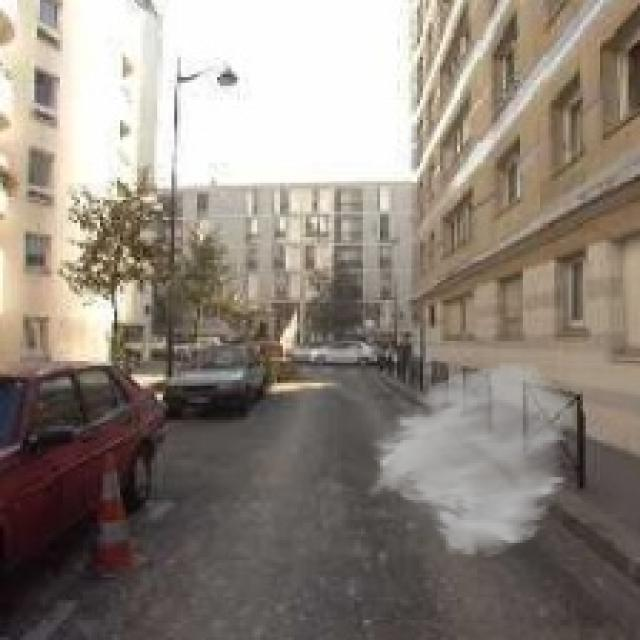Smoke: (362, 360, 578, 560)
